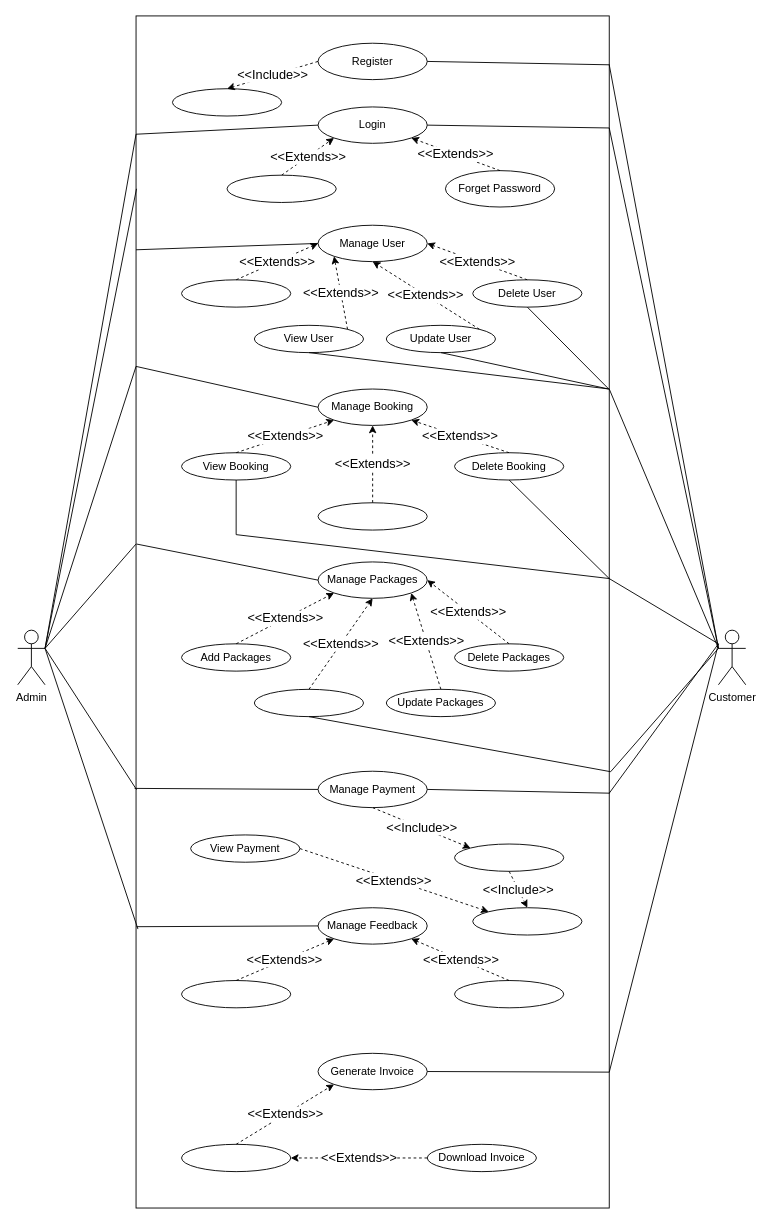
This 771x1224 diagram has some shape labels left out. The shapes that lost their labels are listed below. From the top down, each one's centre as x and y in pixels, then its label:
[227,102]: Authentication
[281,188]: Change Password
[236,293]: Add User
[372,516]: Add Booking
[308,702]: View Packages
[509,857]: Do Payment
[527,921]: UPI
[236,994]: View Feedback
[509,994]: Delete Feedback
[236,1157]: View Invoice
